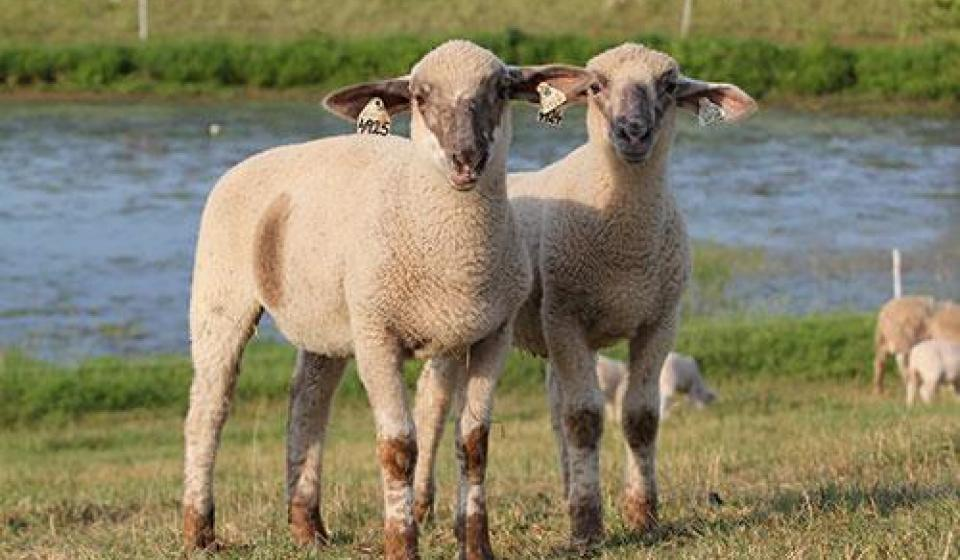sheep: (179, 29, 538, 560), (485, 27, 716, 541), (860, 277, 960, 388), (649, 343, 710, 422)
